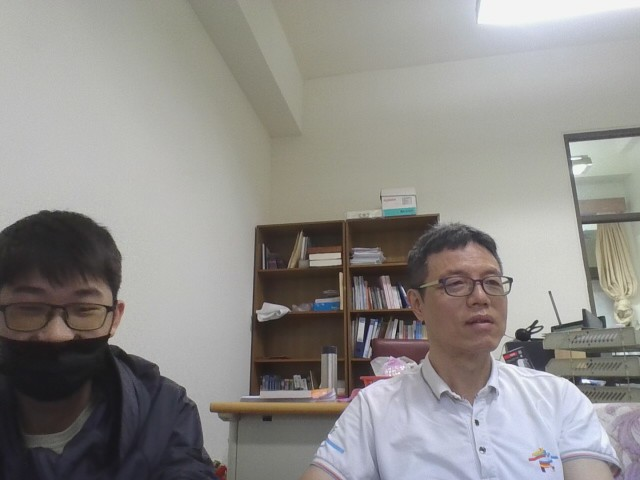No_Helmet: (400, 219, 516, 386), (0, 207, 126, 345)
person: (257, 204, 638, 480), (0, 196, 247, 480)
